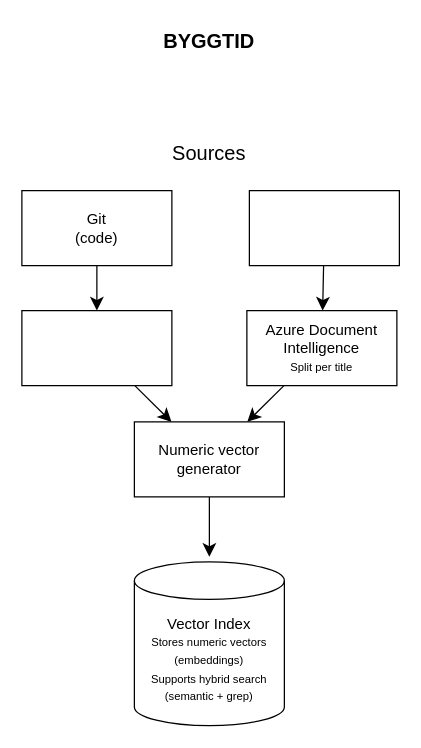
The diagram is 421 pixels wide and 748 high, and some of its shapes have lost their labels. Each missing label, with the centre of its shape:
"Code Chunker Roslyn chunks (1 chunk/method) etc." goes at (x=96, y=347).
"Documentation" goes at (x=323, y=227).
